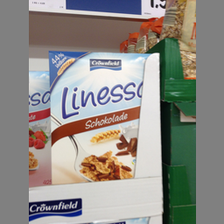cereal: (50, 50, 155, 183)
